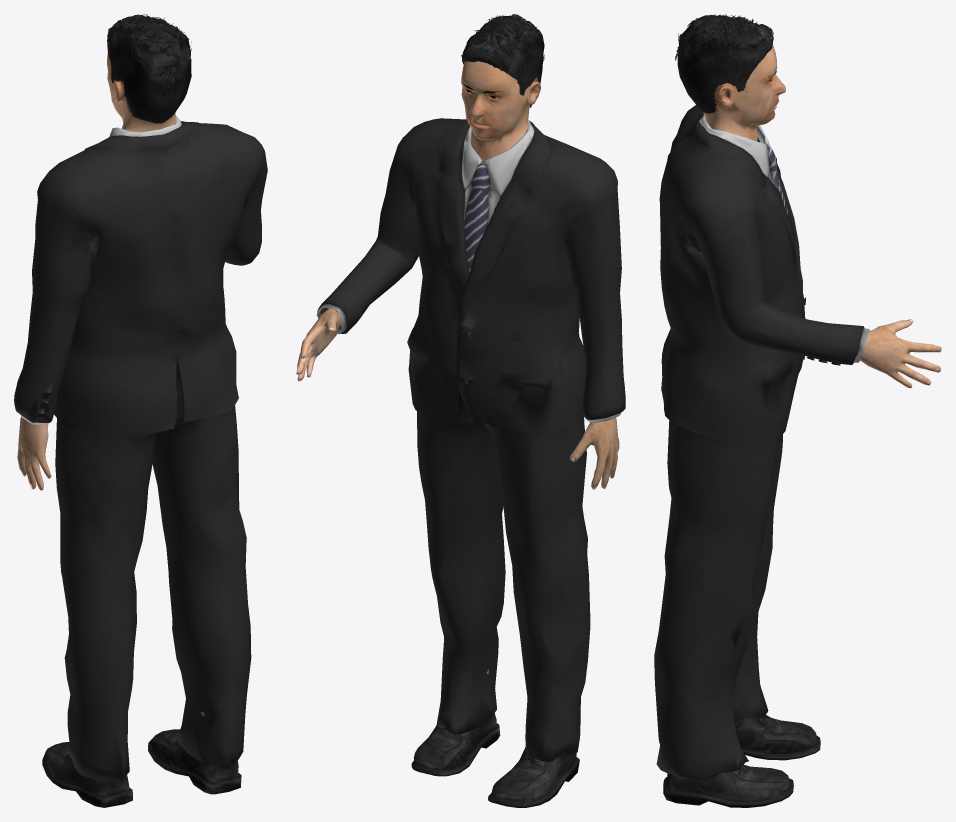
Rendered from relaxed_3.gltf.
3 renders of one model, left to right at view 1: azimuth 30°, elevation 25°; view 2: azimuth 150°, elevation 25°; view 3: azimuth 270°, elevation 25°, orthographic. The views are drawn at different scales.
Parts seen in each view (by area): view 1: relaxed; view 2: relaxed; view 3: relaxed.
Boxes of the visible parts, x1,y1,x2,y2 form: relaxed: (14, 14, 267, 807); relaxed: (296, 14, 625, 807); relaxed: (654, 14, 941, 807).
Size of the model in its own units: 0.5938 by 1.73 by 0.5966.
Materials: 6 (6 with a texture image).
